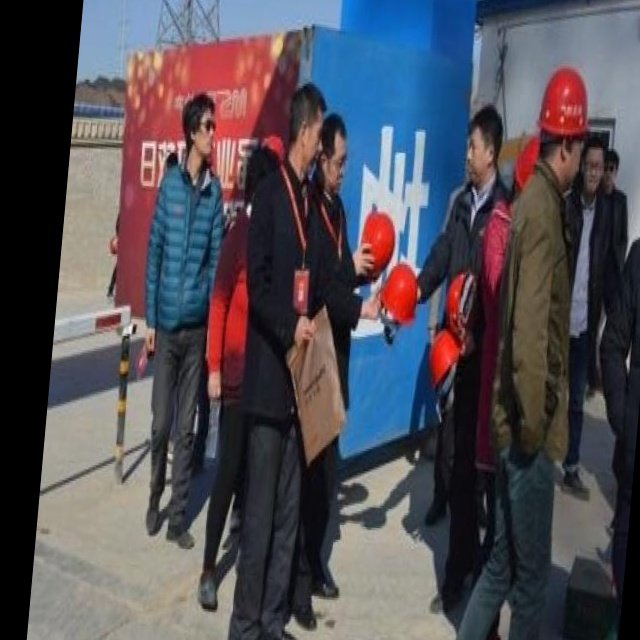Con_Casco: (534, 68, 591, 187)
Sin_Casco_Mascarrilla: (179, 94, 219, 161)
Sin_Chaleco: (147, 160, 223, 330)
